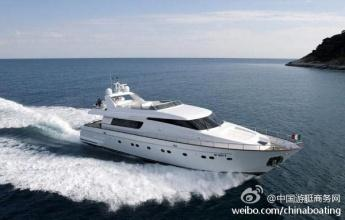yacht: (78, 73, 307, 180)
